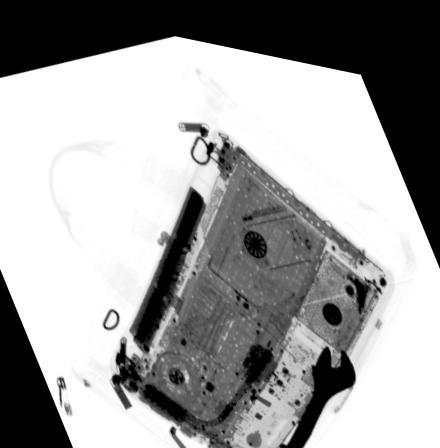Wrench: (275, 330, 356, 448)
